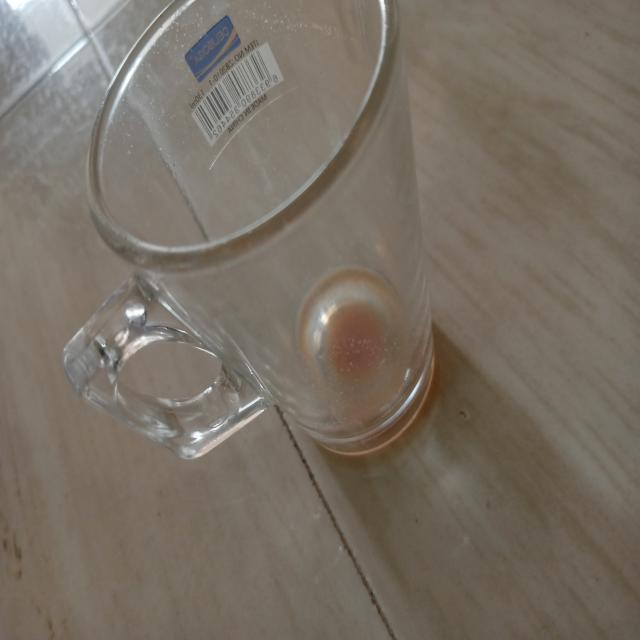glass-VX4N: (59, 2, 426, 468)
